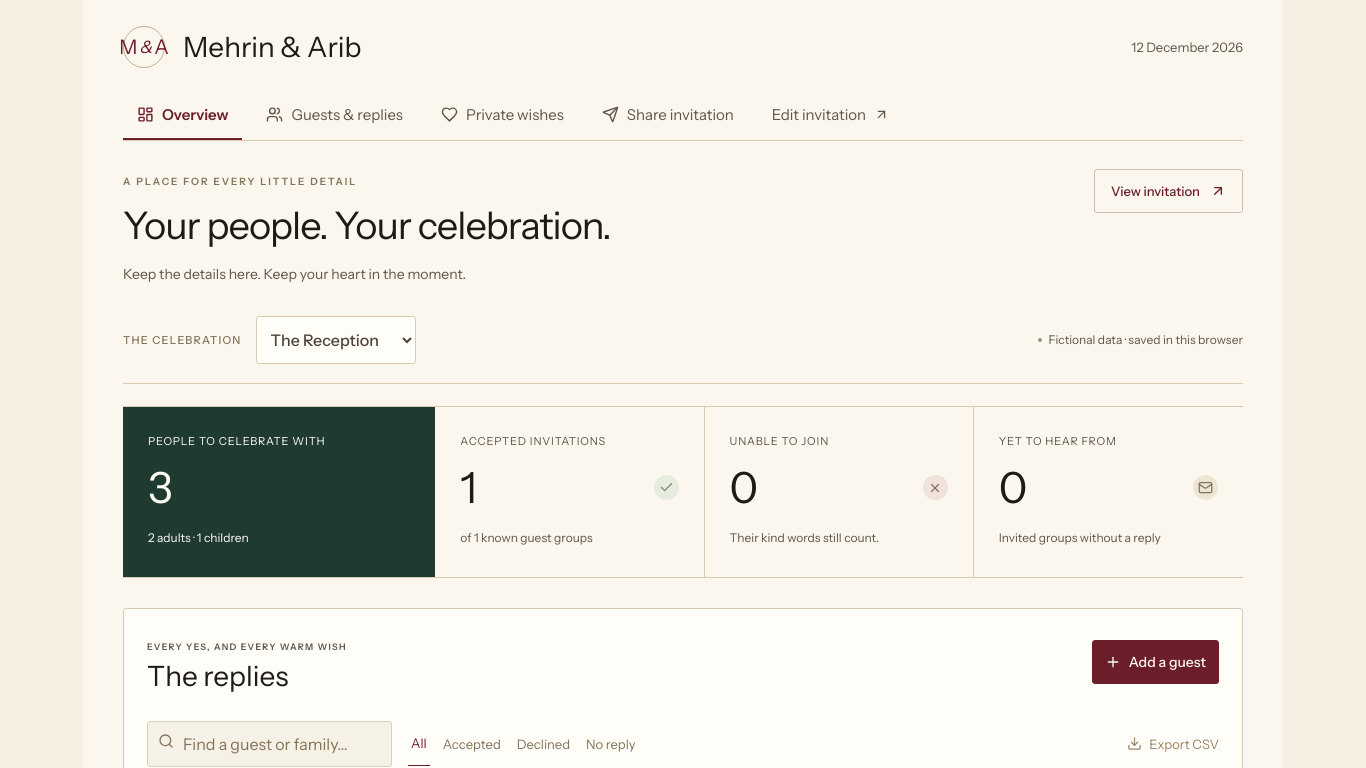
Scenario: Figma presentation adoption preserves product behavior › keeps dashboard totals derived from actual replies after tab and event changes
Expected: the element showing "3" is shown, 148,461 -> 173,514
Click the button "Guests & replies" at [335, 115], box 252,90 -> 417,140
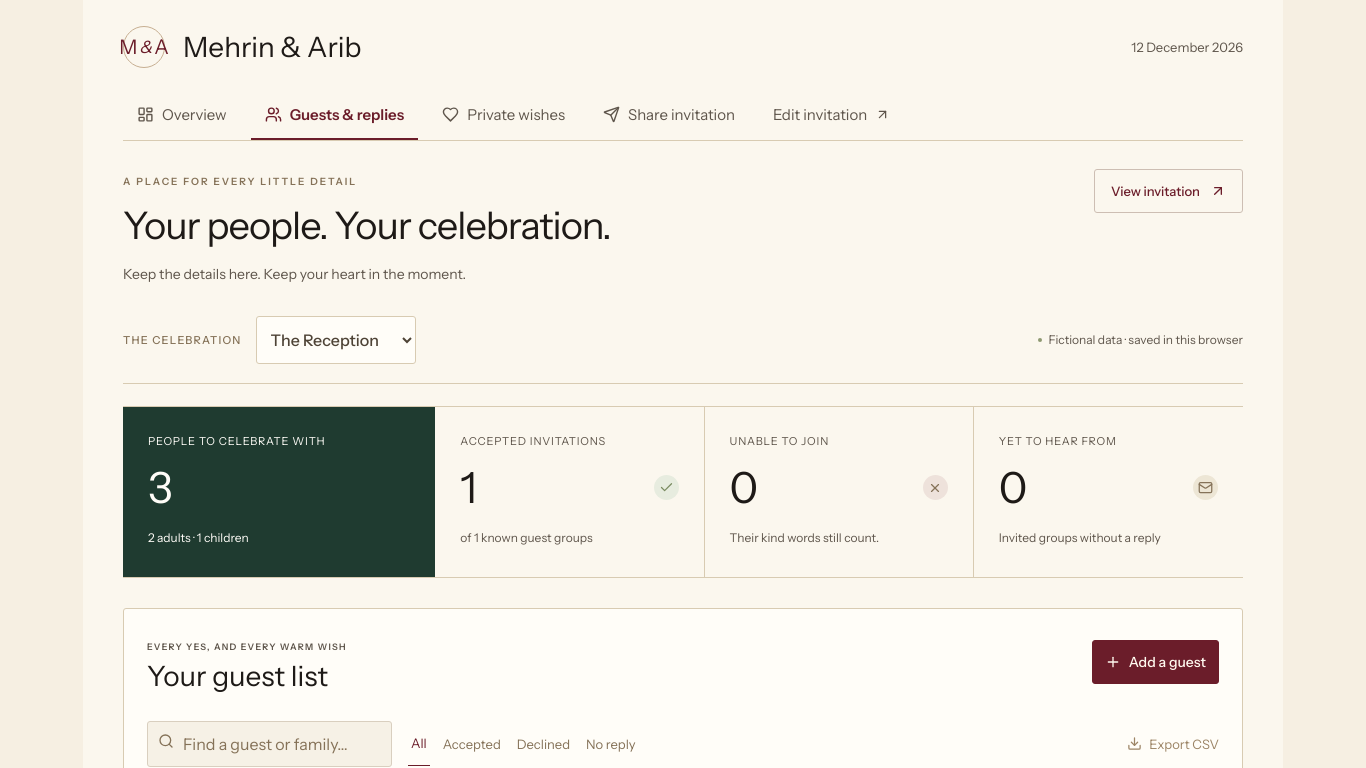
Now the button "Guests & replies" is marked as current, box 251,90 -> 418,140
Select "The Nikah" in the dropdown labelled "THE CELEBRATION" at [336, 340], box 256,316 -> 416,364
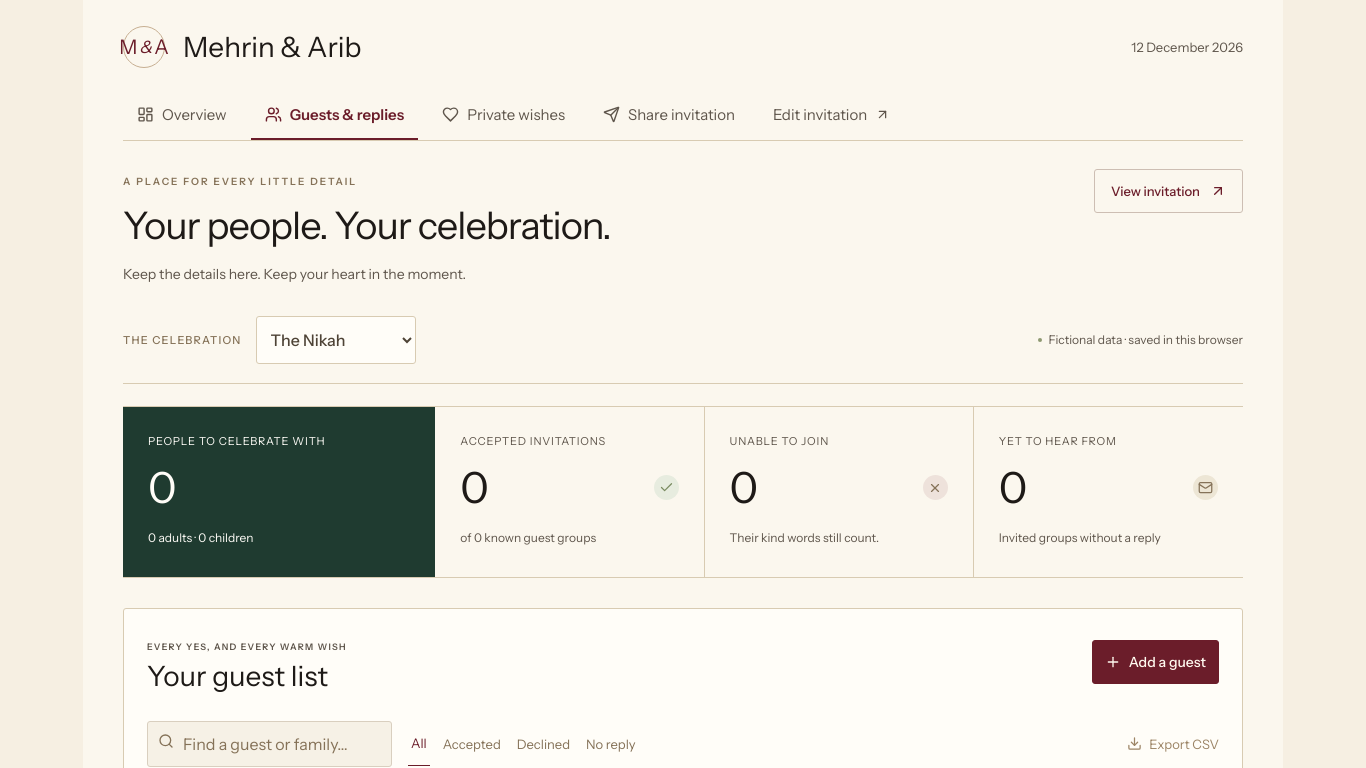
Now the element showing "0" below "PEOPLE TO CELEBRATE WITH" is shown, box 148,461 -> 177,514
